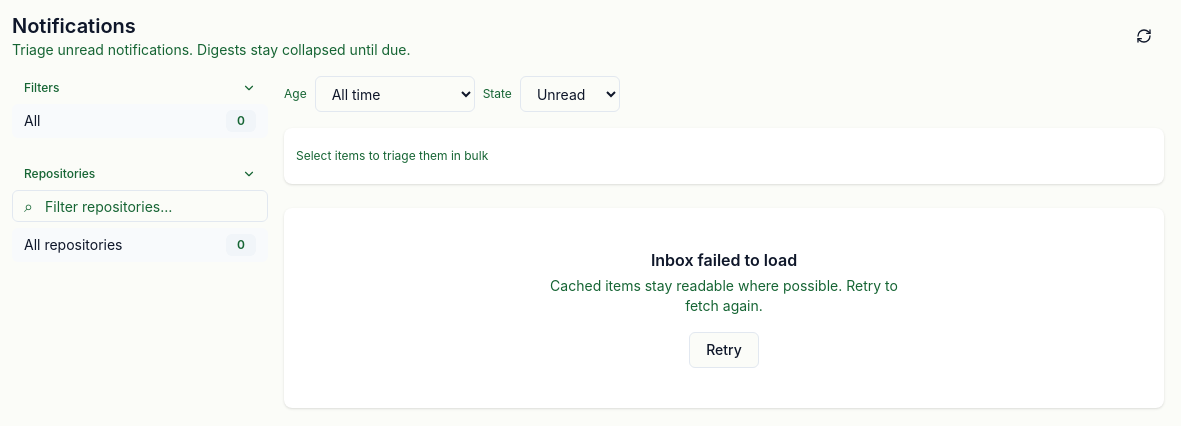
Scenario: inbox screen › shows the error state and recovers when the retry succeeds
Expected: the heading "Inbox failed to load" is shown, [651,250,797,270]
Click the button "Retry" at (724, 350), box [689,332,759,368]
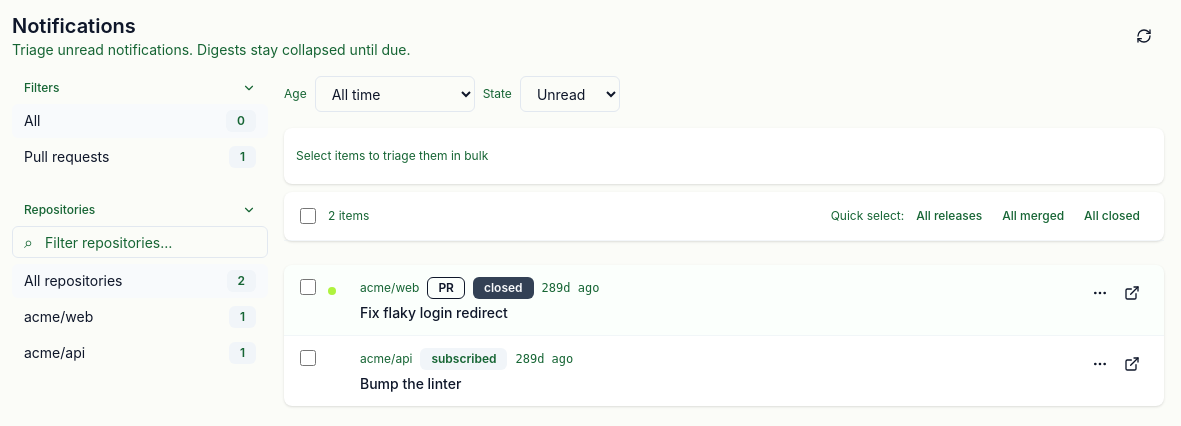
Expected: the text "Fix flaky login redirect" is shown, [360,304,508,321]
